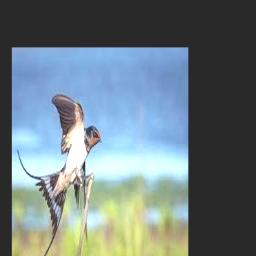Swallow: (17, 95, 101, 256)
